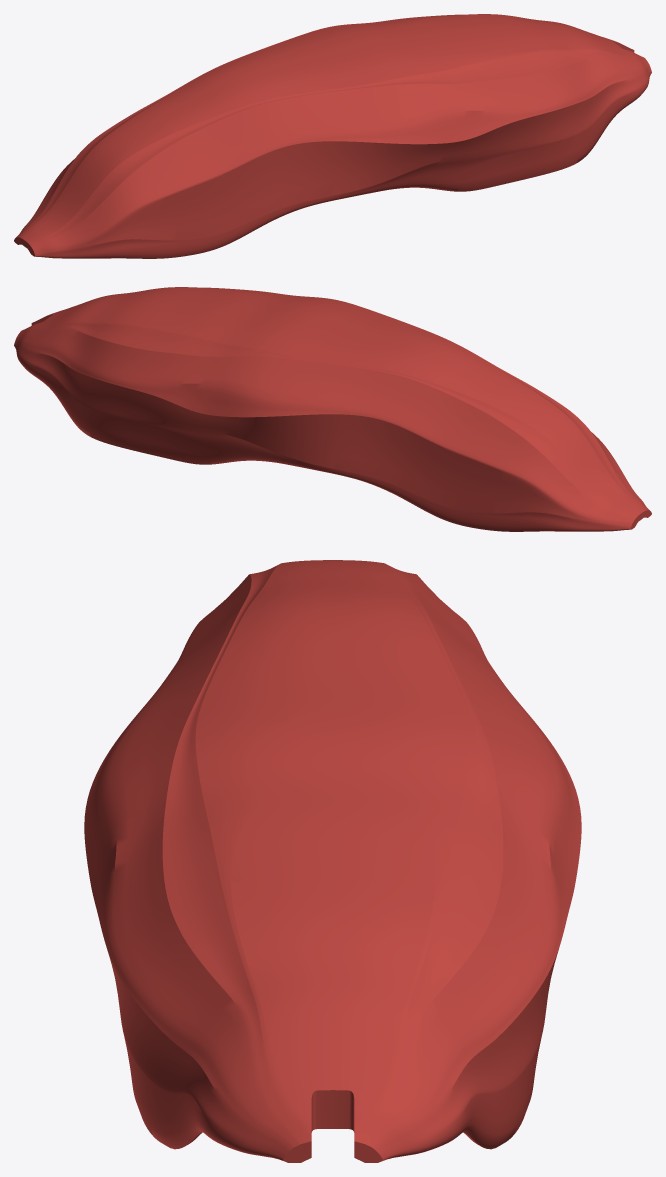
The model's file is sport.glb.
3 renders of one model, top to bottom at view 1: azimuth 30°, elevation 25°; view 2: azimuth 150°, elevation 25°; view 3: azimuth 270°, elevation 25°, orthographic. The views are drawn at different scales.
Parts seen in each view (by area): view 1: sport; view 2: sport; view 3: sport.
Part boxes in pixels (x1,y1,x2,y2): sport: (14,14,651,258); sport: (14,287,651,531); sport: (84,560,581,1162).
Bounding box in the file's own units: 1.07 × 0.2197 × 0.3731.
